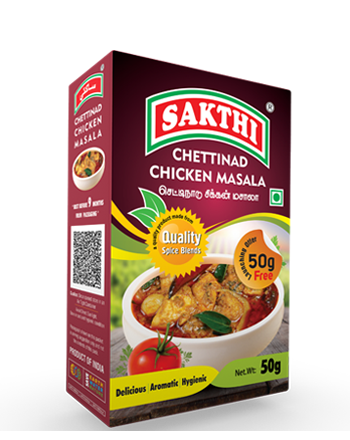VEG: (269, 188, 283, 206)
